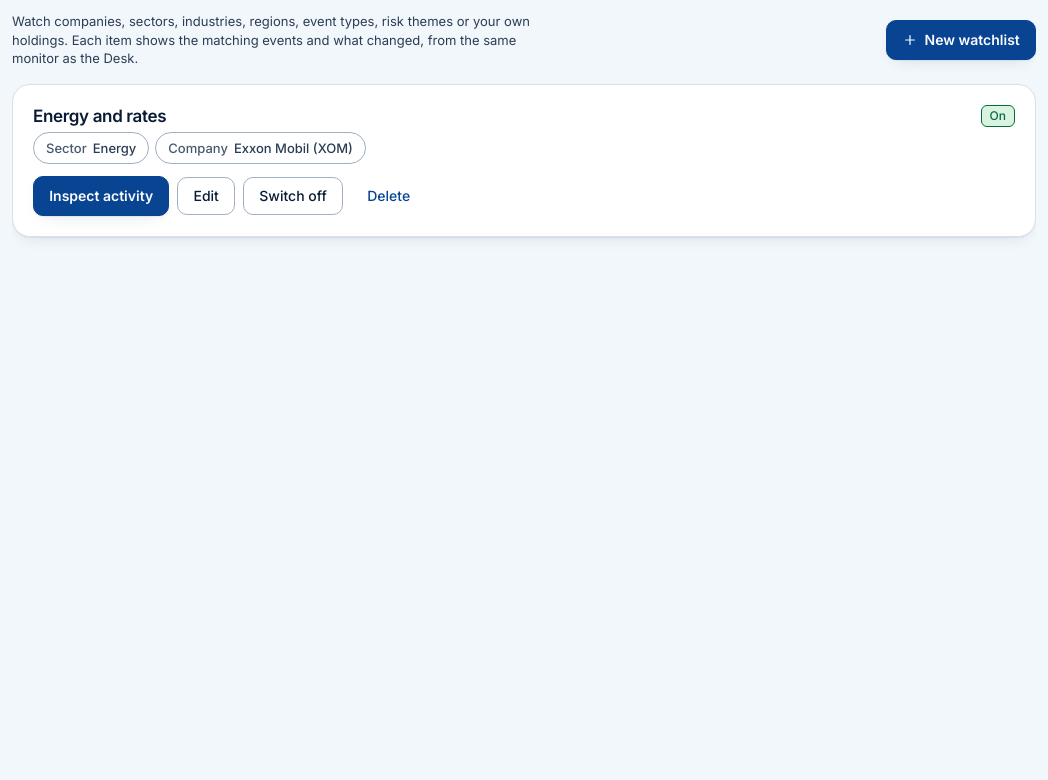
Test: WatchlistsPanel › lists the watchlists with their items and inspects the activity of each item
Expected: the heading "Energy and rates" is shown, top-left (33, 106), bottom-right (166, 126)
Expected: the text "Exxon Mobil (XOM)" is shown, top-left (234, 140), bottom-right (353, 156)
Click the button "Inspect activity".
click(101, 196)  # box top-left (33, 176), bottom-right (169, 216)
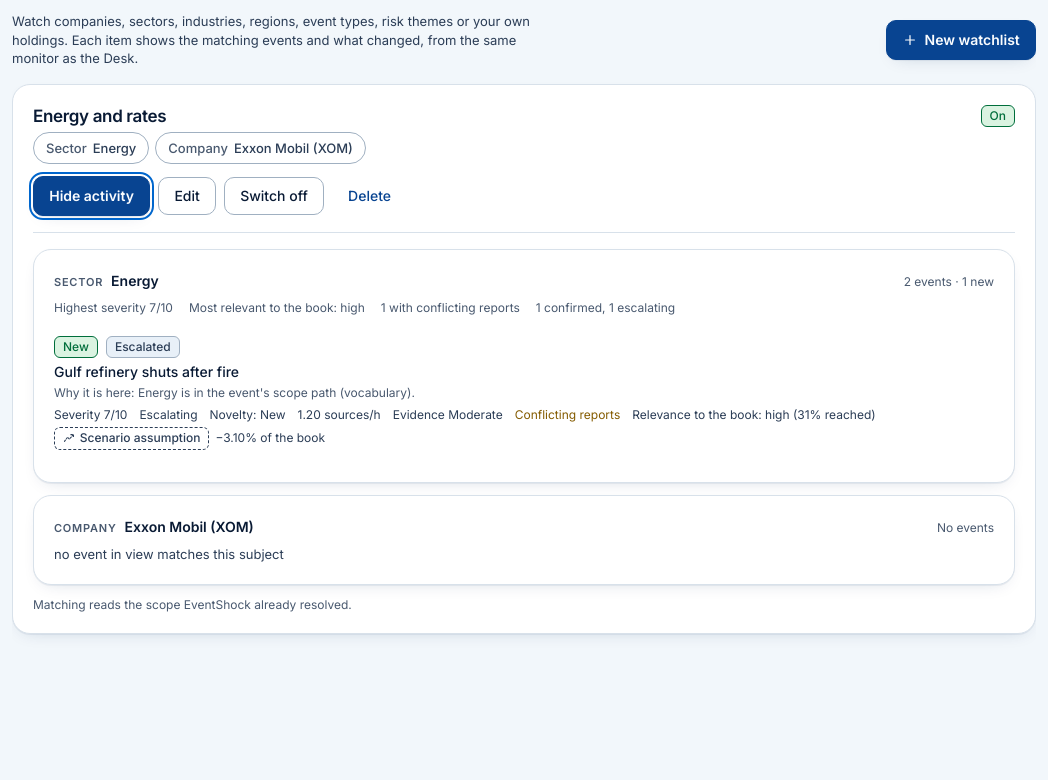
Expected: the text "2 events · 1 new" is shown, top-left (904, 274), bottom-right (994, 290)
Expected: the text "Why it is here: Energy is in the event's scope path" is shown, top-left (54, 385), bottom-right (415, 400)
Expected: the text "Scenario assumption" is shown, top-left (54, 427), bottom-right (209, 450)
